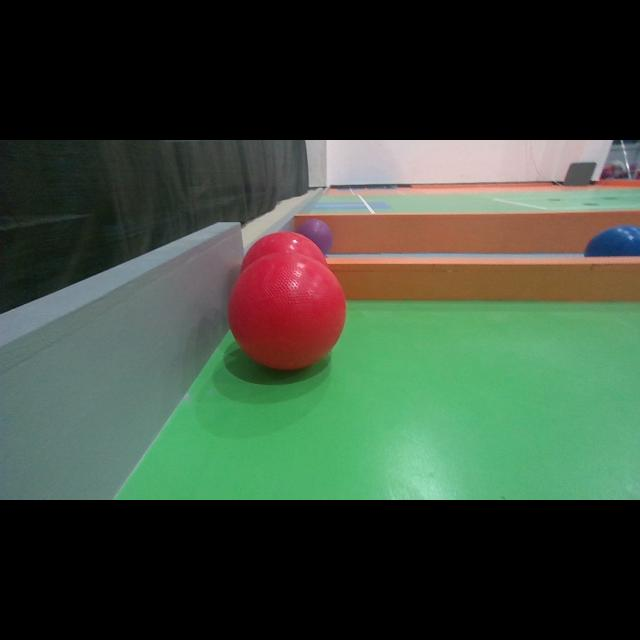B: (228, 252, 346, 371), (580, 225, 640, 262)
P: (299, 218, 331, 250)
R: (245, 231, 321, 269)
